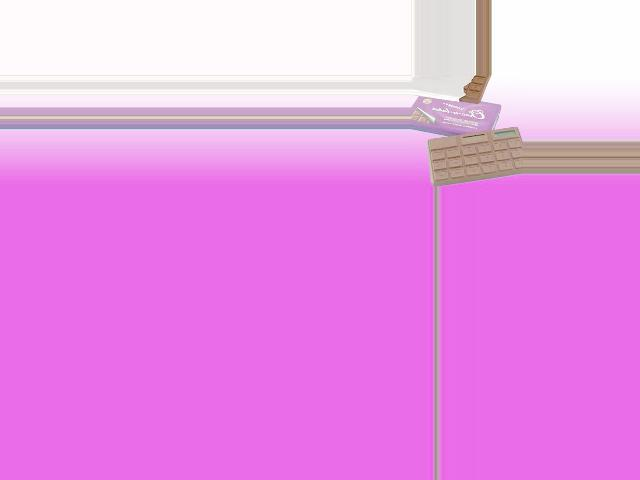chocolate: (428, 125, 519, 187)
